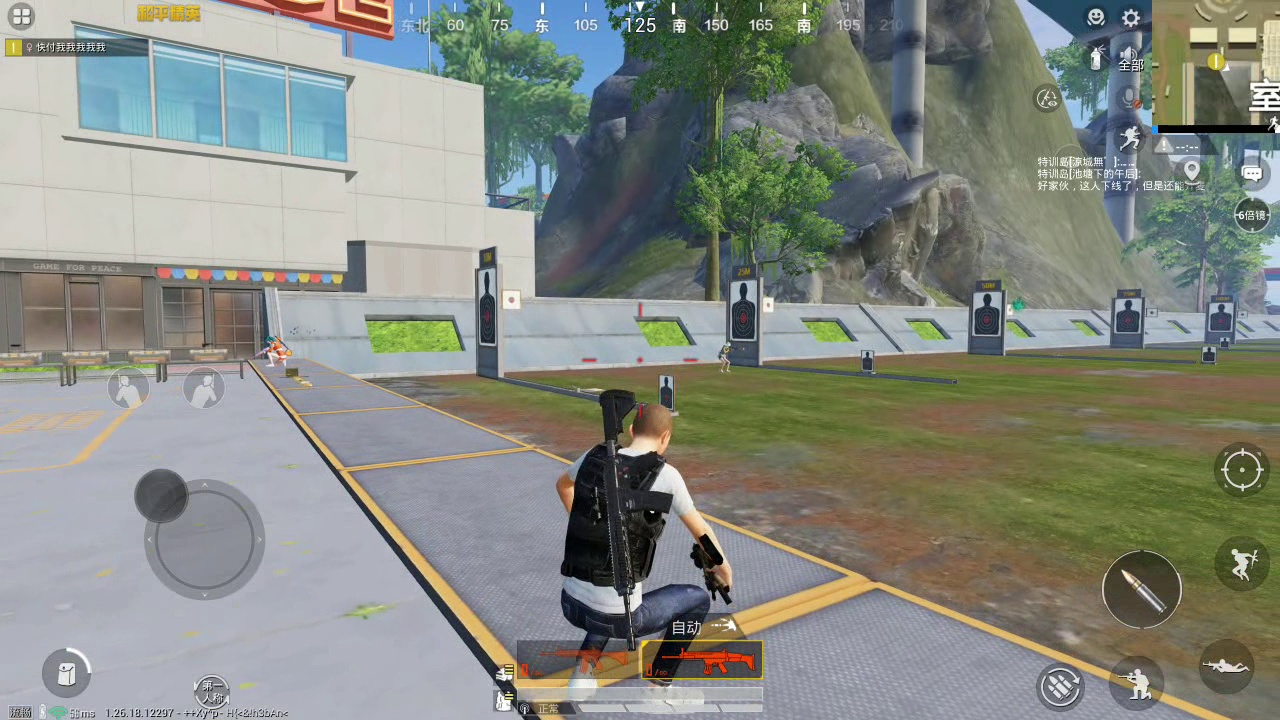enemy: (259, 332, 288, 364), (718, 339, 736, 377)
